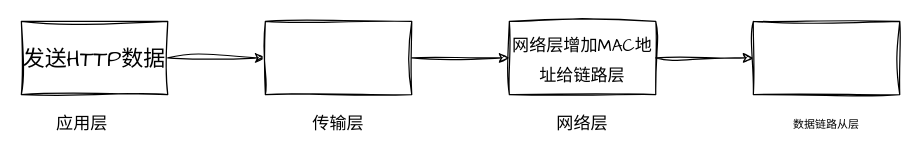
This 921x165 diagram has some shape labels left out. The centre of each missing label's shape, as x and y in pixels:
在传输层分割数据并且添加端口号和序号: (x=338, y=57)
接收端服务器在数据链路层接受数据: (x=826, y=57)
